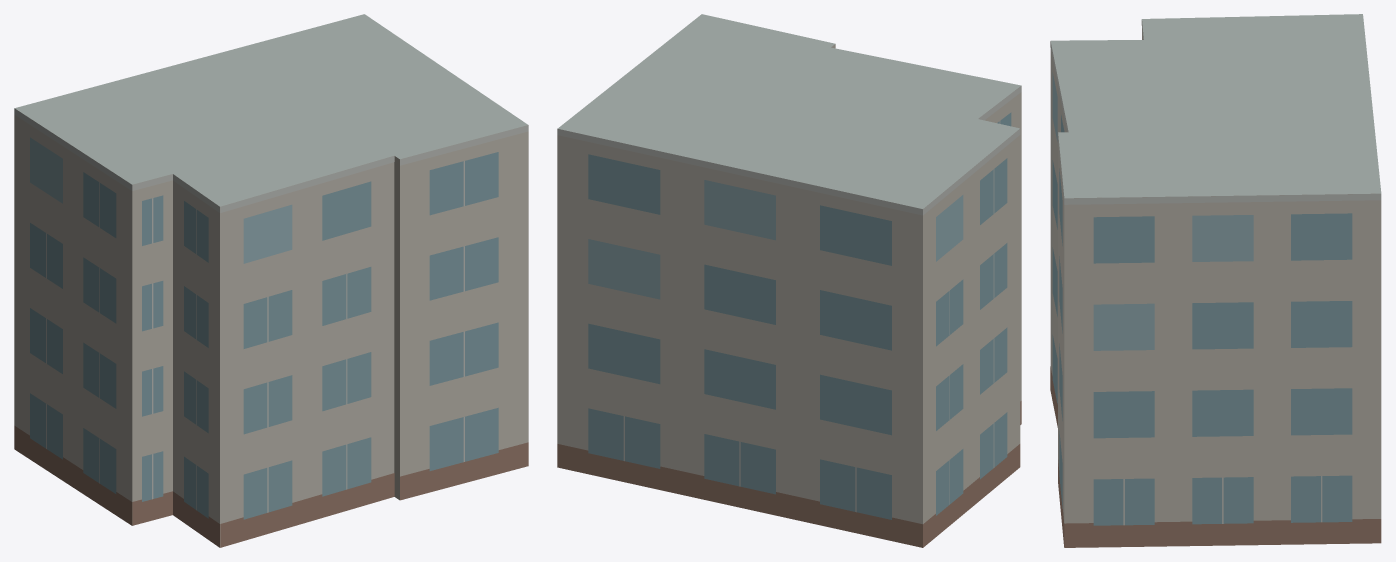
The model's file is survey-upis-32746329.glb.
3 views of the same model, side by side, from view 1: azimuth 30°, elevation 25°; view 2: azimuth 150°, elevation 25°; view 3: azimuth 270°, elevation 25° (orthographic). The views are drawn at different scales.
Parts seen in each view (by area): view 1: survey-upis-32746329.tmp; view 2: survey-upis-32746329.tmp; view 3: survey-upis-32746329.tmp.
Boxes of the visible parts, bbox=[...] form: survey-upis-32746329.tmp: bbox=[14, 14, 528, 547]; survey-upis-32746329.tmp: bbox=[557, 14, 1021, 547]; survey-upis-32746329.tmp: bbox=[1050, 14, 1381, 547].
Bounding box in the file's own units: 14.59 × 12.9 × 11.07.
